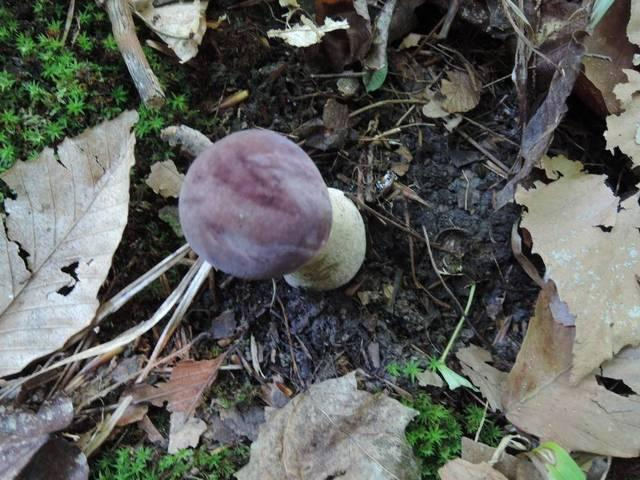Non-edible Mushroom: (176, 126, 332, 281), (281, 186, 367, 292)
